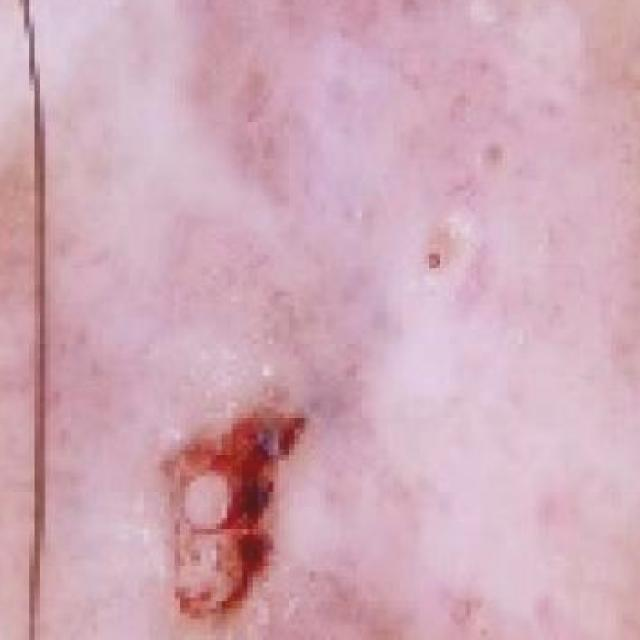BCC: (61, 140, 474, 640)
